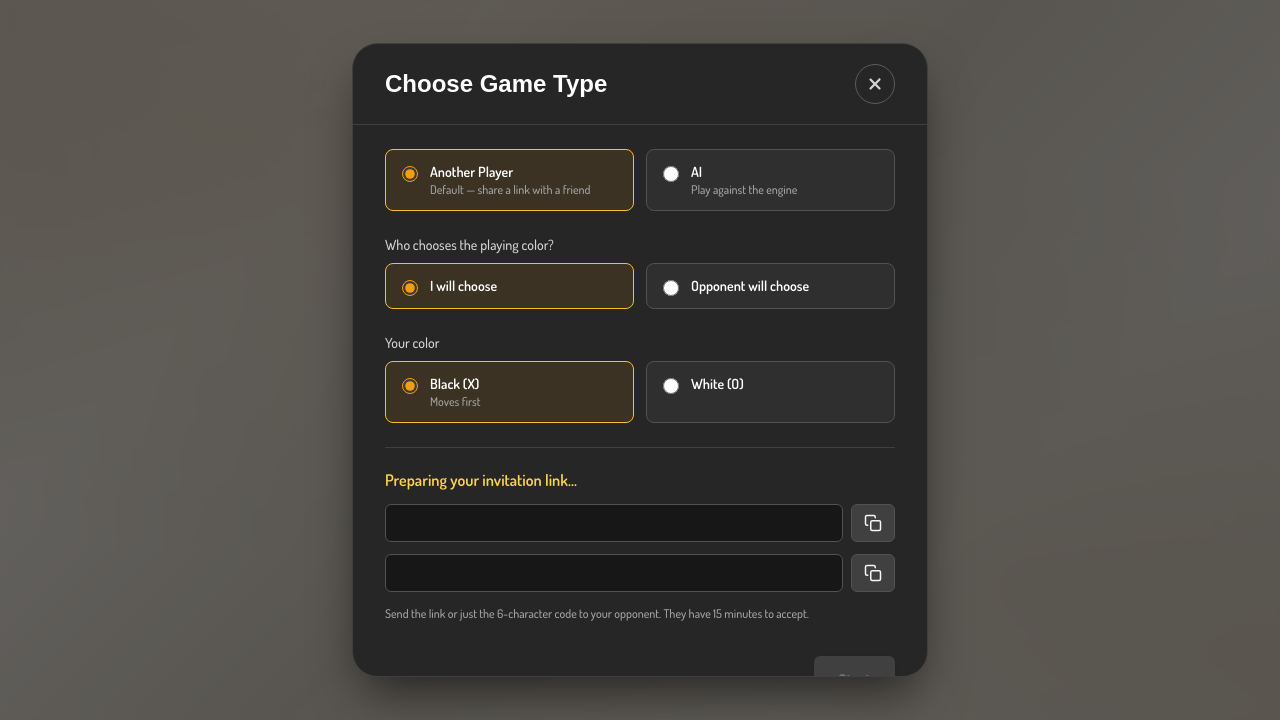
Test: ChooseGameTypeModal › hides X/O choices when Opponent will choose is selected
The image size is (1280, 720).
Step 1. Click the radio button labelled "Another Player Default — share a link with a friend" → coordinates (410, 174), box left=402, top=166, right=418, bottom=182
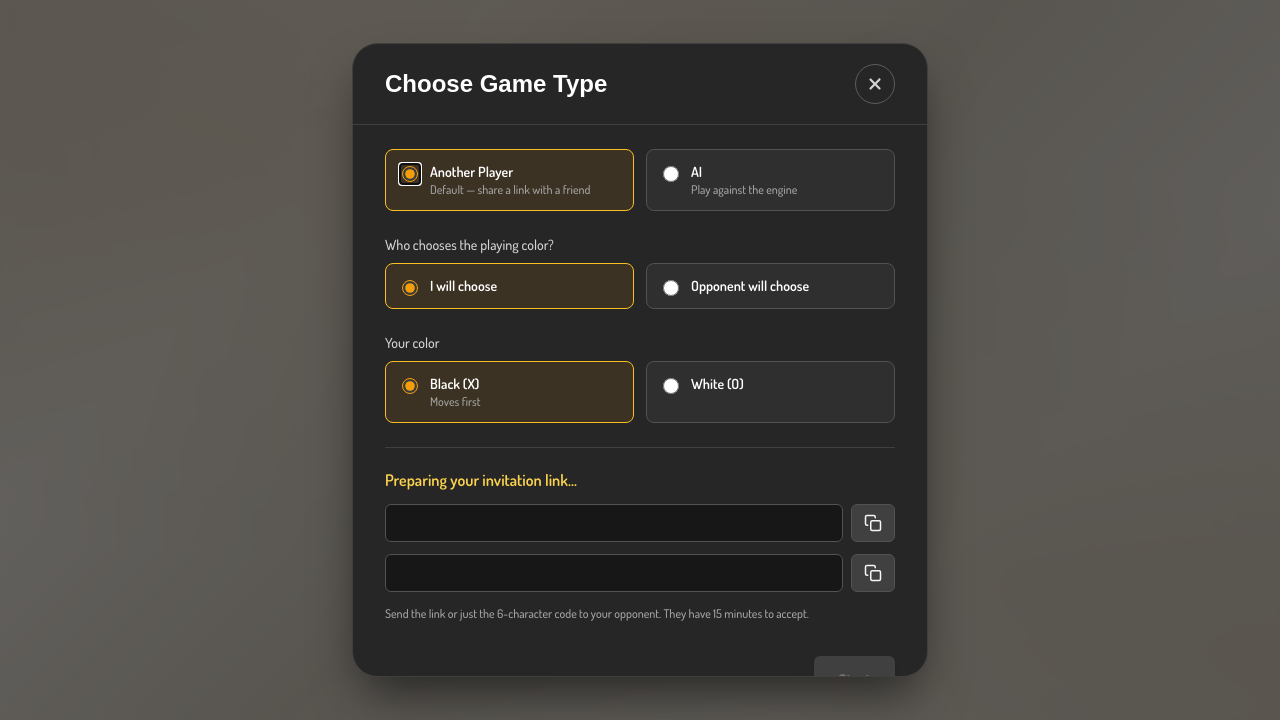
Step 2. Click the radio button labelled "Opponent will choose" → coordinates (671, 288), box left=663, top=280, right=679, bottom=296
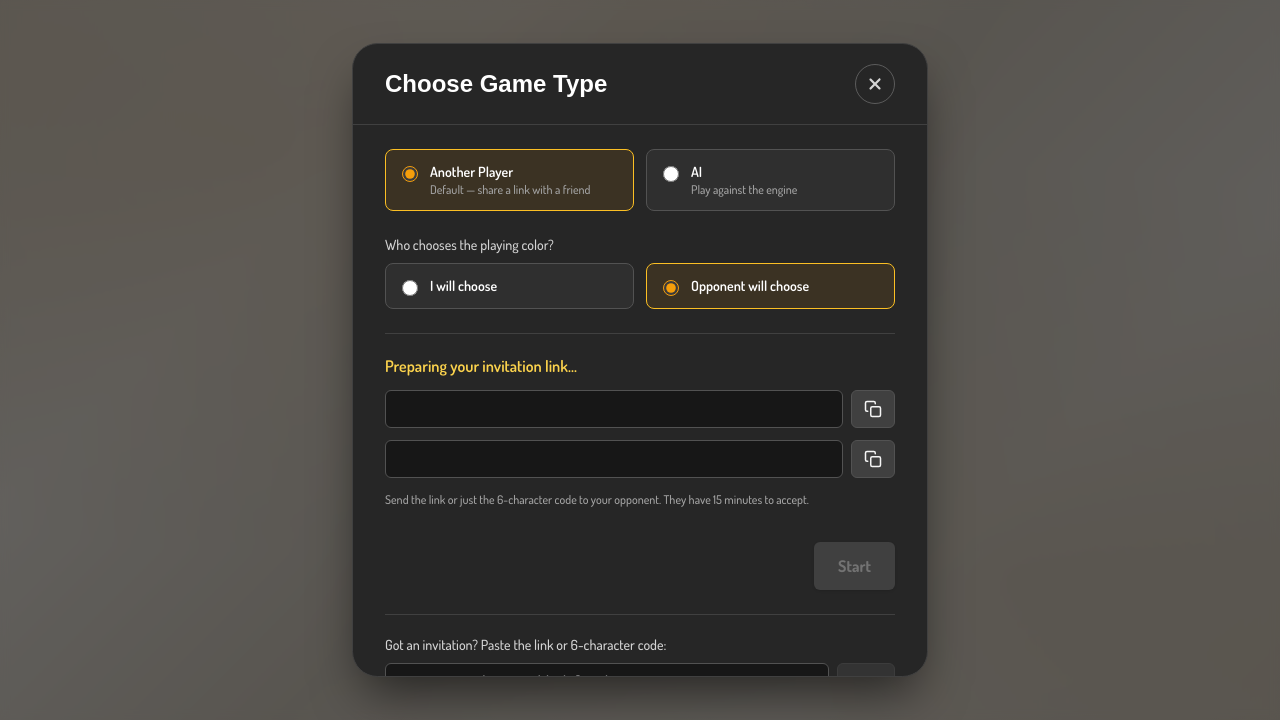
Expected: the text "Your color" is gone
